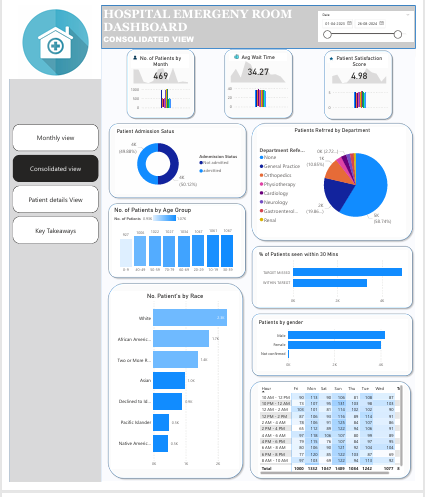

Layout of this report page (visuals, bound fields, positions):
{"tool":"powerbi","page":{"name":"Consolidated view","canvas":[1280,1500],"ordinal":1},"visuals":[{"type":"shape","box":[365,133.3,223.3,226.7],"z":0},{"type":"shape","box":[0,0,290,2400],"z":1000},{"type":"shape","box":[290,0,990,135],"z":3000},{"type":"textbox","box":[290,0,692.5,135],"z":4000},{"type":"kpi","fields":{"Indicator":["Hospital ER_Data.No. of Patients"],"TrendLine":["Date Table.Month"]},"box":[385.7,154.3,181.4,95.7],"z":6000},{"type":"shape","box":[673.3,133.3,223.3,226.7],"z":9000},{"type":"shape","box":[988.3,136.7,223.3,226.7],"z":10000},{"type":"kpi","title":"Avg Wait Time","fields":{"Indicator":["Hospital ER_Data.Avg Wait time"],"TrendLine":["Date Table.Month"]},"box":[693.3,151.7,181.7,95],"z":11000},{"type":"kpi","title":"Patient Satisfaction Score ","fields":{"Indicator":["Hospital ER_Data.Patient SatisfactionScore"],"TrendLine":["Date Table.Month"]},"box":[1013.3,155,180,95],"z":13000},{"type":"lineClusteredColumnComboChart","fields":{"Y":["Hospital ER_Data.Patient SatisfactionScore"],"Series":["Date Table.Month"]},"box":[1000,250,200,85],"z":14000},{"type":"shape","box":[305,363.3,450,251.7],"z":15000},{"type":"donutChart","title":"Patient Admission Satus","fields":{"Category":["Hospital ER_Data.Admmission Status"],"Y":["Hospital ER_Data.No. of Patients"]},"box":[333.3,386.7,396.7,205],"z":16000},{"type":"shape","box":[303.3,615,450,251.7],"z":17000},{"type":"clusteredColumnChart","fields":{"Category":["Hospital ER_Data.Age Group"],"Y":["Hospital ER_Data.No. of Patients"]},"box":[325,633.3,405,218.3],"z":18000},{"type":"shape","box":[755,361.7,525,388.3],"z":19000},{"type":"pieChart","title":"Patients Refrred by Department ","fields":{"Category":["Hospital ER_Data.Department Referral"],"Y":["Hospital ER_Data.No. of Patients"]},"box":[782.5,383.8,470,343.8],"z":20000},{"type":"shape","box":[755.6,750,524.4,213.3],"z":21000},{"type":"shape","box":[301.7,866.7,443.3,633.3],"z":22000},{"type":"image","box":[997.3,153.6,35.5,26.4],"z":23000},{"type":"barChart","title":"% of Patients seen within 30 Mins ","fields":{"Y":["Hospital ER_Data.No. of Patients"],"Category":["Hospital ER_Data.Waittime Status"]},"box":[781.7,771.7,475,175],"z":24000},{"type":"shape","box":[755.7,962.9,524.3,212.9],"z":25000},{"type":"clusteredBarChart","title":"Patients by gender ","fields":{"Category":["Hospital ER_Data.Patient Gender"],"Y":["Hospital ER_Data.No. of Patients"]},"box":[781.4,988.6,474.3,162.9],"z":26000},{"type":"shape","box":[750,1175.7,524.3,324.3],"z":27000},{"type":"clusteredBarChart","title":"No. Patient''s by Race","fields":{"Category":["Hospital ER_Data.Patient Race"],"Y":["Hospital ER_Data.No. of Patients"]},"box":[321.7,903.3,401.7,560],"z":28000},{"type":"pivotTable","fields":{"Rows":["Hospital ER_Data.Hour Interval"],"Columns":["Date Table.DAY"],"Values":["Hospital ER_Data.No. of Patients"]},"box":[785,1191.2,460,291.2],"z":29000},{"type":"image","box":[0,0,290,232.2],"z":30000},{"type":"image","box":[385.5,151.8,21.8,22.7],"z":31000},{"type":"image","box":[710,109.1,13.6,105.5],"z":32000},{"type":"lineClusteredColumnComboChart","fields":{"Series":["Date Table.Month"],"Y":["Hospital ER_Data.Avg Wait time"]},"box":[682.9,247.1,200,85.7],"z":32001},{"type":"lineClusteredColumnComboChart","fields":{"Series":["Date Table.Month"],"Y":["Hospital ER_Data.No. of Patients"]},"box":[377.1,250,200,85.7],"z":32002},{"type":"slicer","fields":{"Values":["Date Table.Date"]},"box":[973.8,18.8,300,97.5],"z":32003},{"type":"pageNavigator","box":[10,374,270,376],"z":32004}]}

Visuals, with their boxes on the page's 1280x1500 design canvas (x1, y1, x2, y2). These are canvas units, not pixel positions in the 425x497 screenshot, which may show the page scaled, cropped or inside an application window:
shape: 365, 133, 588, 360
shape: 0, 0, 290, 2400
shape: 290, 0, 1280, 135
textbox: 290, 0, 982, 135
kpi - Hospital ER_Data.No. of Patients x Date Table.Month: 386, 154, 567, 250
shape: 673, 133, 897, 360
shape: 988, 137, 1212, 363
"Avg Wait Time" kpi: 693, 152, 875, 247
"Patient Satisfaction Score " kpi: 1013, 155, 1193, 250
lineClusteredColumnComboChart - Hospital ER_Data.Patient SatisfactionScore x Date Table.Month: 1000, 250, 1200, 335
shape: 305, 363, 755, 615
"Patient Admission Satus" donutChart: 333, 387, 730, 592
shape: 303, 615, 753, 867
clusteredColumnChart - Hospital ER_Data.Age Group x Hospital ER_Data.No. of Patients: 325, 633, 730, 852
shape: 755, 362, 1280, 750
"Patients Refrred by Department " pieChart: 782, 384, 1252, 728
shape: 756, 750, 1280, 963
shape: 302, 867, 745, 1500
image: 997, 154, 1033, 180
"% of Patients seen within 30 Mins " barChart: 782, 772, 1257, 947
shape: 756, 963, 1280, 1176
"Patients by gender " clusteredBarChart: 781, 989, 1256, 1152
shape: 750, 1176, 1274, 1500
"No. Patient''s by Race" clusteredBarChart: 322, 903, 723, 1463
pivotTable - Hospital ER_Data.Hour Interval x Date Table.DAY: 785, 1191, 1245, 1482
image: 0, 0, 290, 232
image: 386, 152, 407, 174
image: 710, 109, 724, 215
lineClusteredColumnComboChart - Date Table.Month x Hospital ER_Data.Avg Wait time: 683, 247, 883, 333
lineClusteredColumnComboChart - Date Table.Month x Hospital ER_Data.No. of Patients: 377, 250, 577, 336
slicer - Date Table.Date: 974, 19, 1274, 116
pageNavigator: 10, 374, 280, 750
